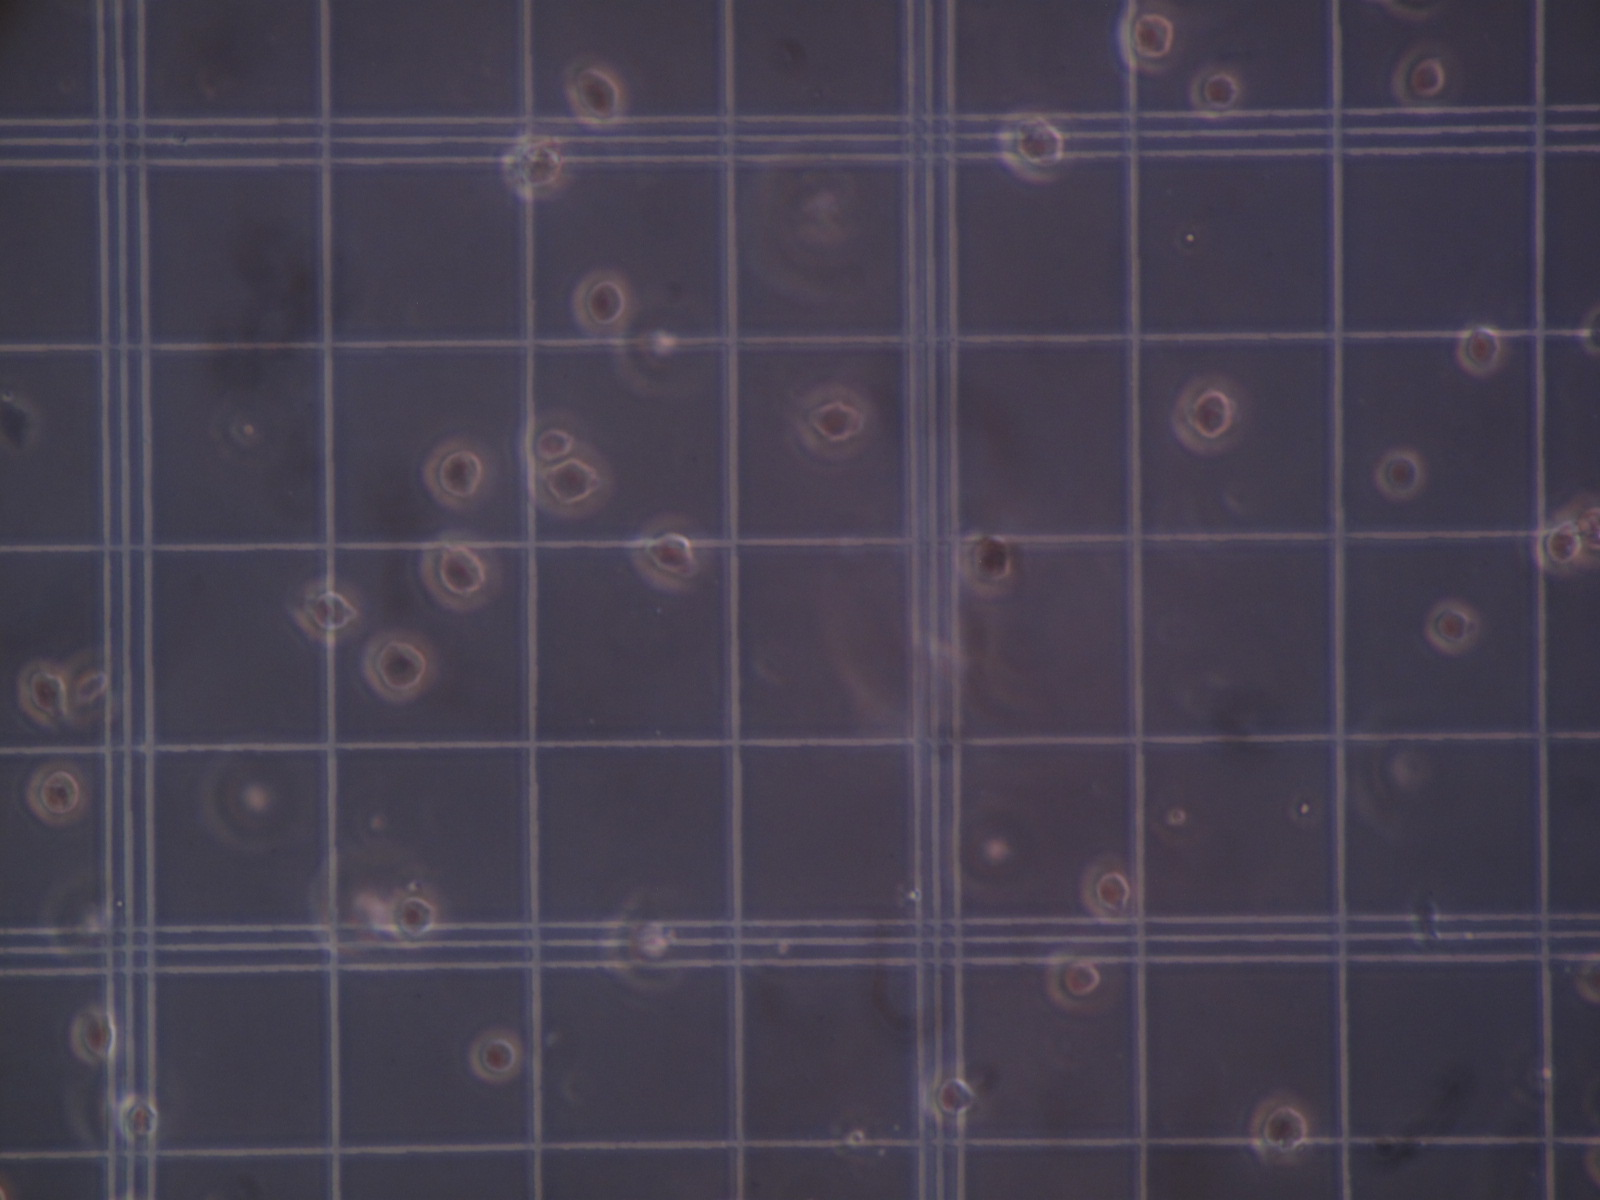hemo: (603, 890, 687, 995), (420, 527, 501, 613), (631, 511, 711, 594), (1172, 374, 1250, 456), (794, 383, 876, 461), (528, 445, 614, 519), (1390, 37, 1464, 115), (362, 630, 437, 705), (997, 106, 1070, 182), (423, 434, 493, 511), (1044, 949, 1123, 1017), (514, 402, 593, 469), (64, 650, 134, 724), (1115, 1, 1182, 76), (1246, 1093, 1314, 1163), (1076, 848, 1135, 924), (297, 576, 363, 644), (501, 135, 568, 199), (388, 884, 449, 954), (24, 763, 88, 828), (1532, 518, 1600, 579), (956, 531, 1017, 597), (564, 62, 625, 127), (16, 658, 71, 727), (574, 272, 635, 334), (923, 1065, 986, 1124), (1456, 320, 1509, 379), (1424, 599, 1478, 655), (1189, 66, 1243, 121), (469, 1026, 522, 1082), (69, 1007, 118, 1066), (1373, 450, 1426, 503), (116, 1092, 163, 1142), (1575, 958, 1600, 1007)
